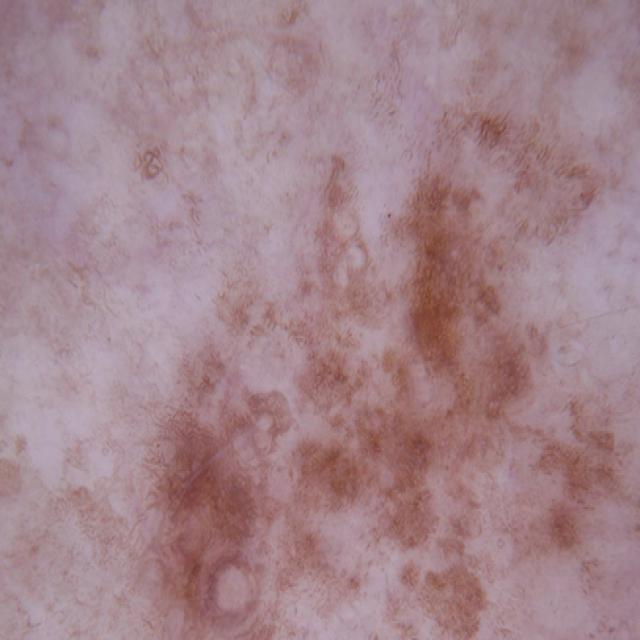Keratosis: (351, 350, 558, 602), (159, 378, 311, 640), (421, 124, 624, 297)
